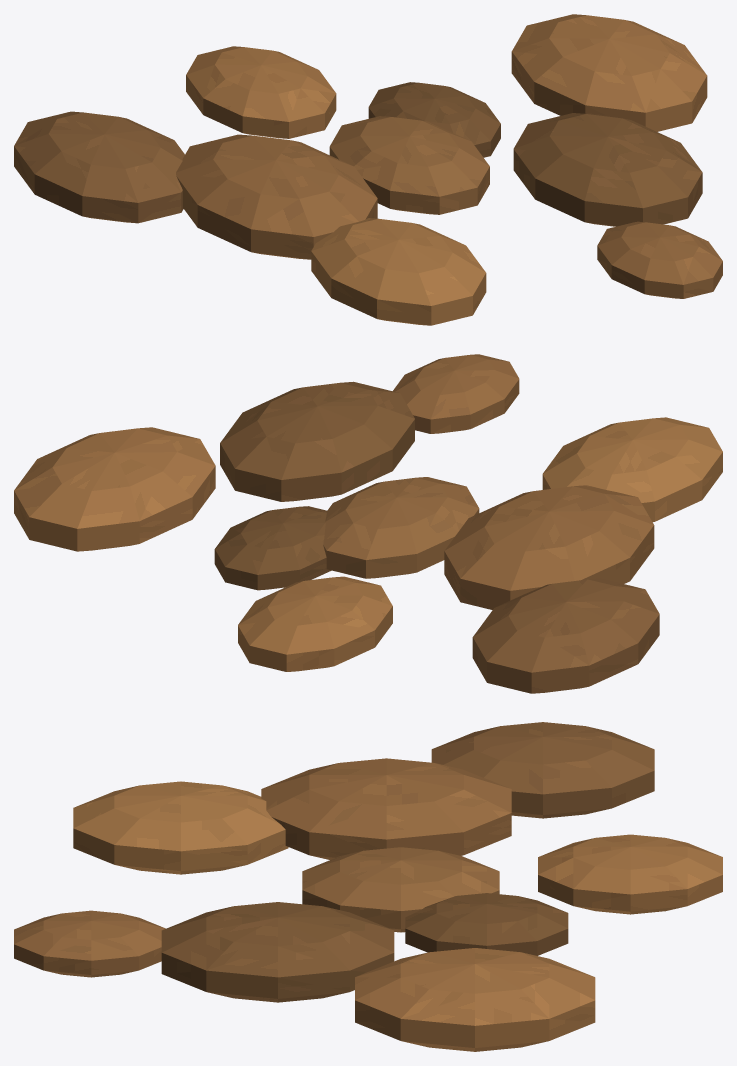
Rendered from seed_horseradish.glb.
The picture shows the model from 3 angles, top to bottom: view 1: azimuth 30°, elevation 25°; view 2: azimuth 150°, elevation 25°; view 3: azimuth 270°, elevation 25°; orthographic projection. The views are drawn at different scales.
Parts seen in each view (by area): view 1: block_grain 2, block_grain 6, block_grain 3, block_grain 7, block_grain 5, block_grain 0, block_grain 4, block_grain 8, block_grain 1; view 2: block_grain 6, block_grain 2, block_grain 3, block_grain 7, block_grain 5, block_grain 0, block_grain 4, block_grain 1, block_grain 8; view 3: block_grain 6, block_grain 2, block_grain 3, block_grain 5, block_grain 7, block_grain 4, block_grain 0, block_grain 1, block_grain 8.
Part boxes in pixels (<box>): block_grain 2: <box>176,134,377,259</box>; block_grain 6: <box>511,14,707,131</box>; block_grain 3: <box>513,113,702,226</box>; block_grain 7: <box>14,111,184,223</box>; block_grain 5: <box>311,218,486,325</box>; block_grain 0: <box>329,116,489,214</box>; block_grain 4: <box>186,46,336,138</box>; block_grain 8: <box>597,221,722,298</box>; block_grain 1: <box>368,82,500,157</box>; block_grain 6: <box>14,427,215,551</box>; block_grain 2: <box>444,485,654,609</box>; block_grain 3: <box>220,381,414,501</box>; block_grain 7: <box>472,578,659,693</box>; block_grain 5: <box>542,417,722,521</box>; block_grain 0: <box>323,477,479,578</box>; block_grain 4: <box>238,576,392,671</box>; block_grain 1: <box>214,506,331,590</box>; block_grain 8: <box>393,354,519,433</box>; block_grain 6: <box>355,948,595,1051</box>; block_grain 2: <box>261,758,511,859</box>; block_grain 3: <box>161,902,394,1002</box>; block_grain 5: <box>73,781,288,874</box>; block_grain 7: <box>431,722,654,818</box>; block_grain 4: <box>538,834,722,914</box>; block_grain 0: <box>302,847,499,932</box>; block_grain 1: <box>405,893,568,955</box>; block_grain 8: <box>14,910,165,977</box>.
Bounding box in the file's own units: 0.022 × 0.00253 × 0.0218.
1 material, 1 textured.
